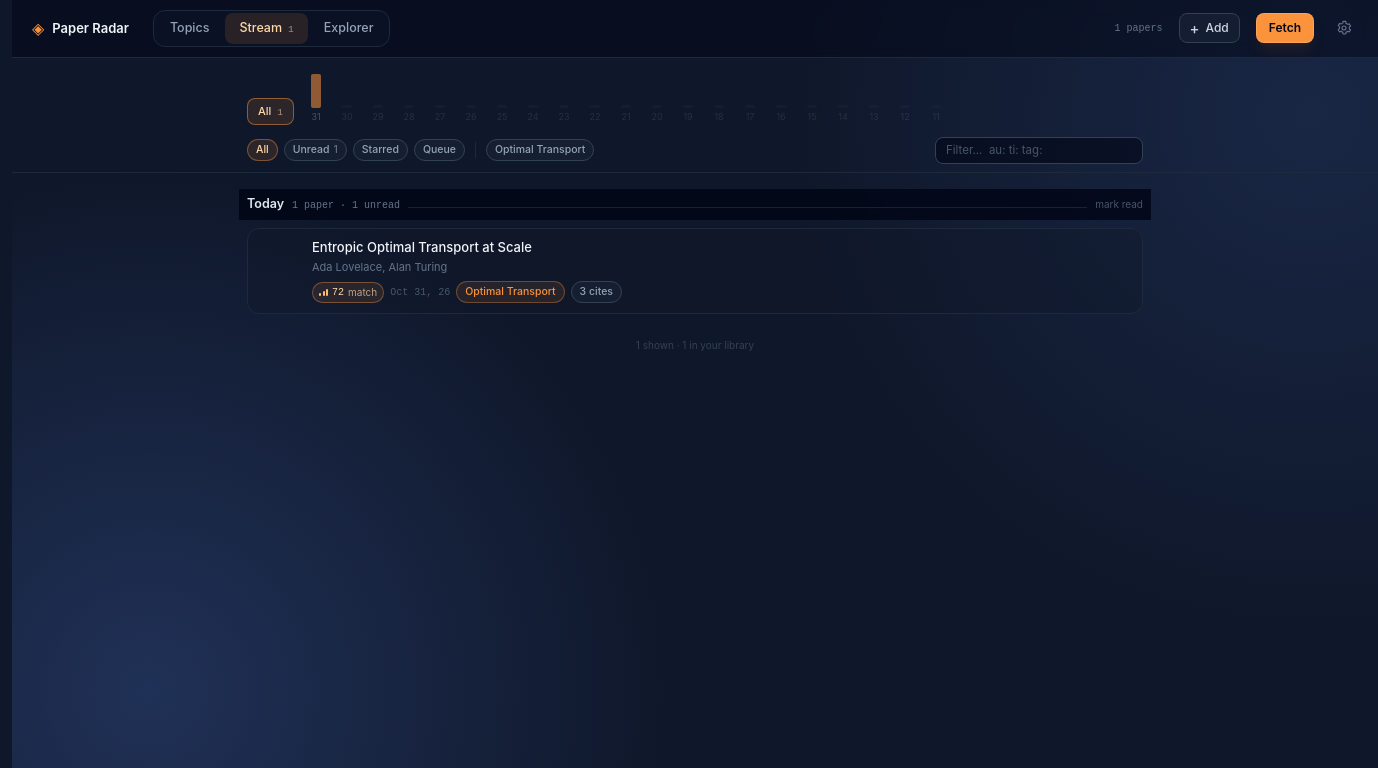
right-clicking a topic opens a context menu
The width and height of the screenshot is (1378, 768).
Click the tab with test id "tab-topics". click: [190, 28]
box: [156,13,224,44]
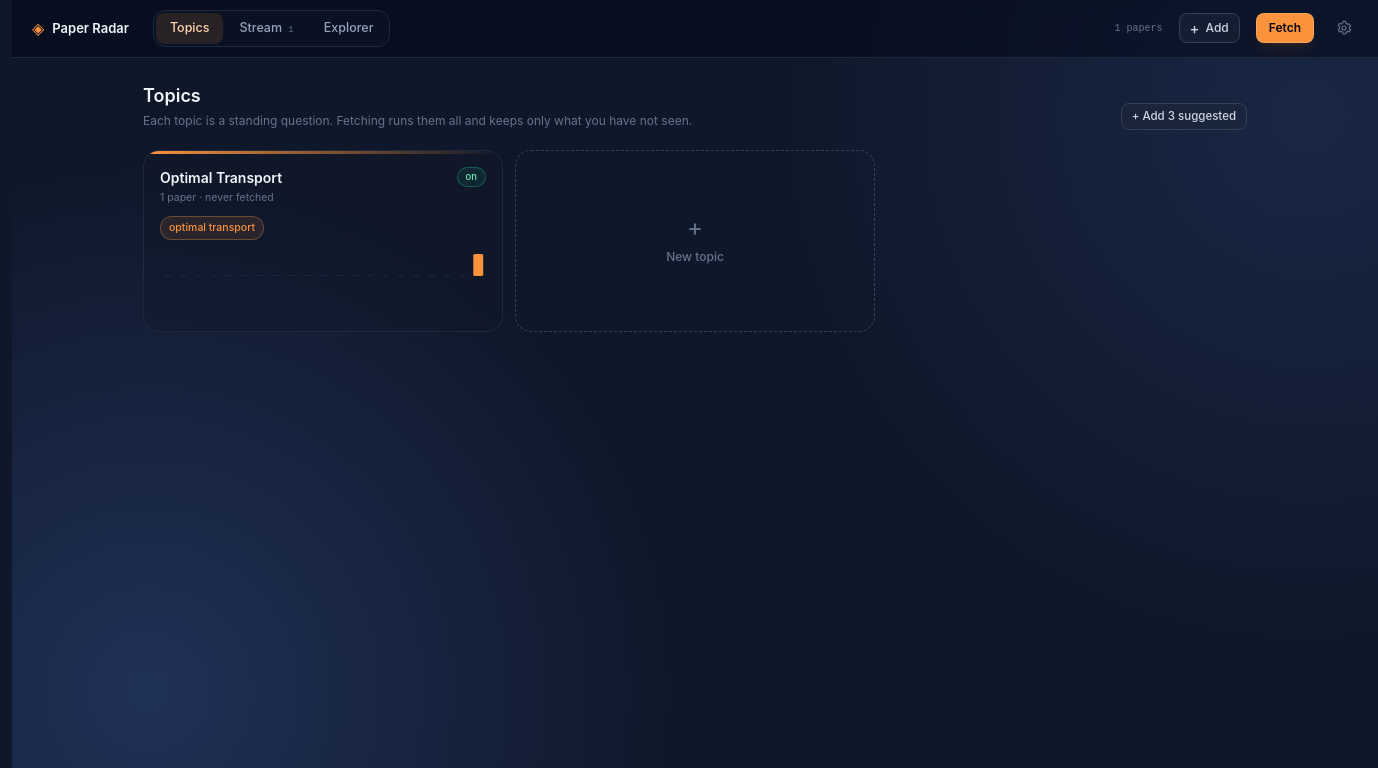
Right-click the element with test id "topic-card-t_ot" at [323, 241], box [143,150,503,332]
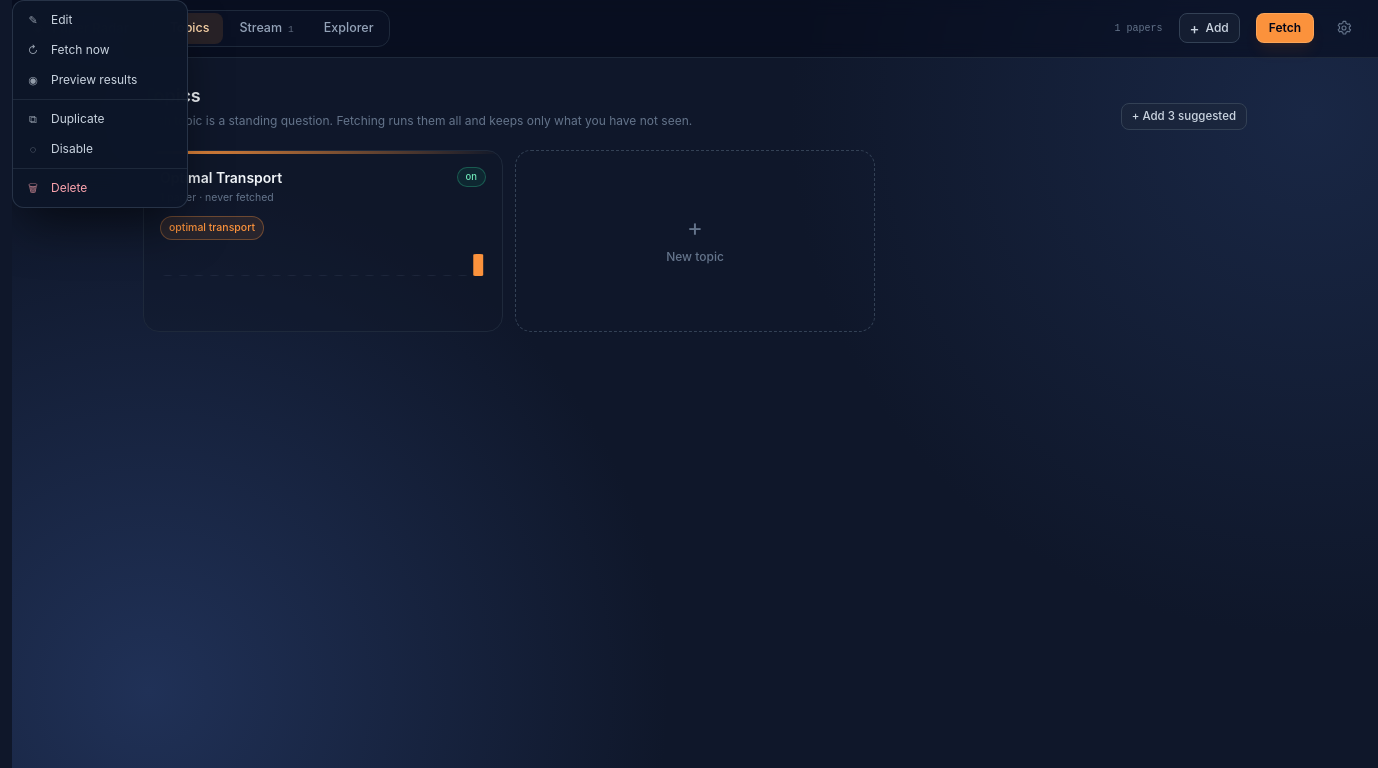
Now the text "Edit" is shown, box [51,12,72,27]
Now the text "Duplicate" is shown, box [51,111,104,126]
Now the text "Delete" is shown, box [51,180,87,195]
